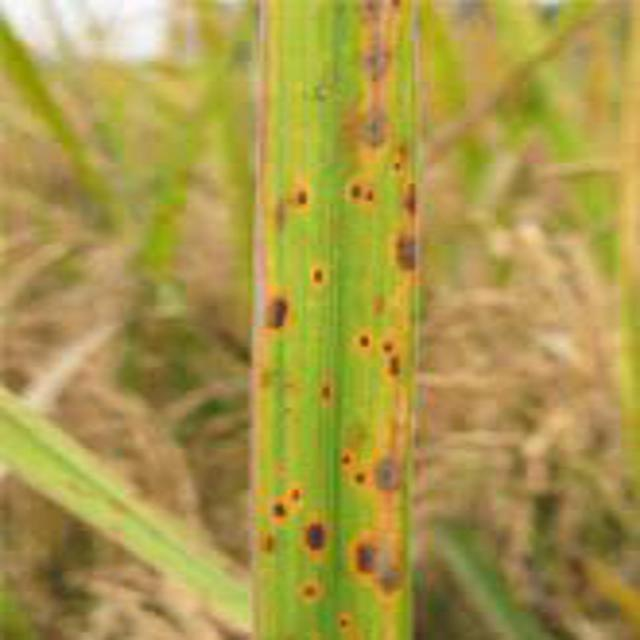Brown spot: (350, 0, 393, 161), (340, 532, 404, 603), (288, 253, 346, 289), (261, 481, 306, 526), (328, 450, 376, 492), (334, 176, 394, 208), (281, 172, 322, 217), (386, 228, 422, 276), (302, 512, 332, 556), (398, 177, 424, 224), (378, 335, 402, 383), (292, 574, 322, 605), (364, 286, 386, 322), (316, 384, 344, 405), (324, 611, 352, 632), (351, 332, 372, 351)
